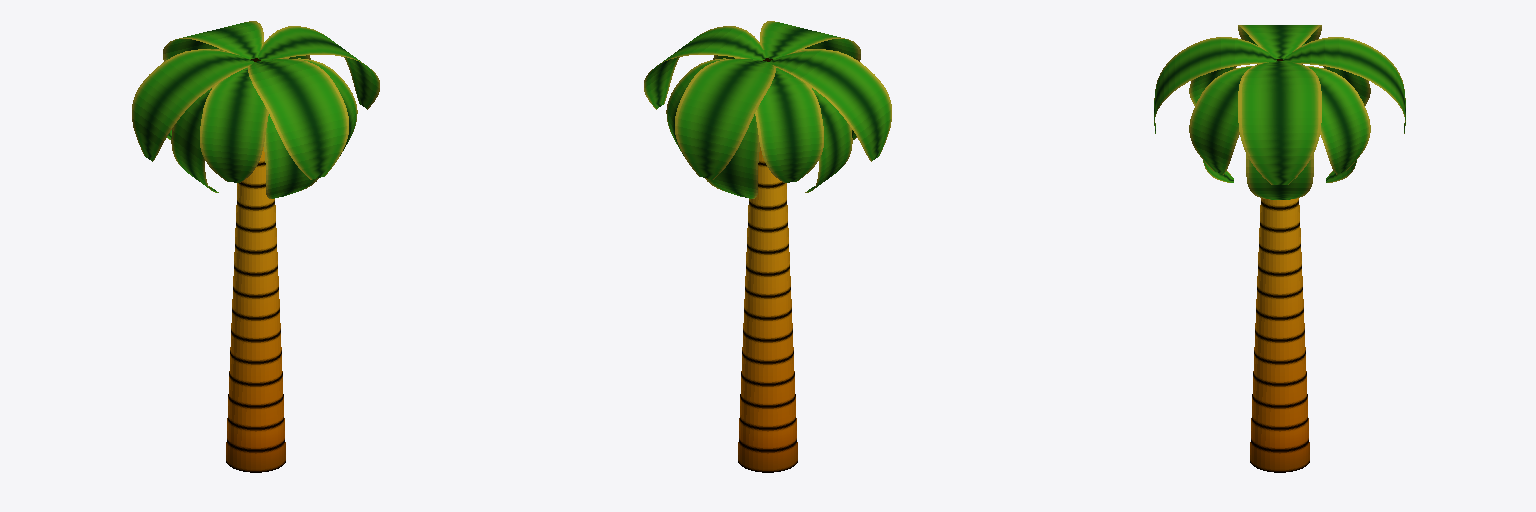
3 views of the same model, side by side, from view 1: azimuth 30°, elevation 25°; view 2: azimuth 150°, elevation 25°; view 3: azimuth 270°, elevation 25° (orthographic).
Parts seen in each view (by area): view 1: Leaves, Tree; view 2: Leaves, Tree; view 3: Leaves, Tree.
Part boxes in pixels (left/top/right/bottom): Leaves: left=132, top=21, right=379, bottom=198; Tree: left=226, top=58, right=285, bottom=472; Leaves: left=644, top=21, right=891, bottom=198; Tree: left=738, top=58, right=797, bottom=472; Leaves: left=1154, top=25, right=1405, bottom=199; Tree: left=1250, top=59, right=1309, bottom=472.
Bounding box in the file's own units: 60.17 × 108 × 60.17.
Materials: 2 (2 with a texture image).